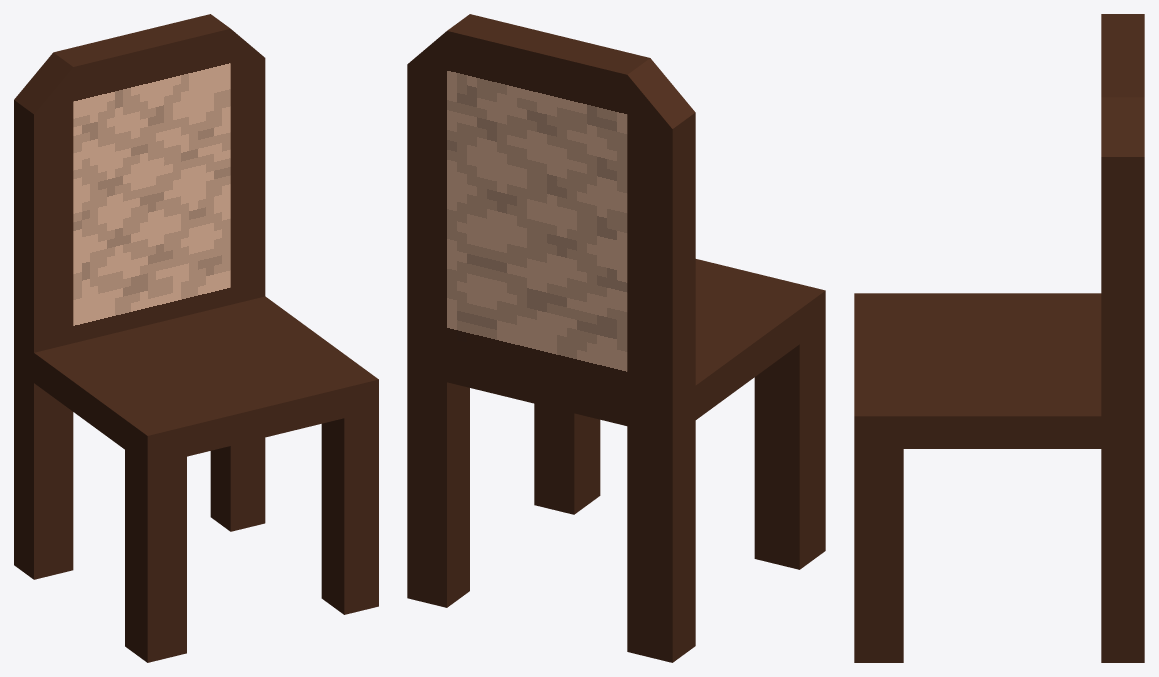
The model's file is Chair.glb.
3 renders of one model, left to right at view 1: azimuth 30°, elevation 25°; view 2: azimuth 150°, elevation 25°; view 3: azimuth 270°, elevation 25°, orthographic. The views are drawn at different scales.
Visible parts, largest first — view 1: chair; view 2: chair; view 3: chair.
Boxes of the visible parts, <box> form: chair: <box>14,14,378,662</box>; chair: <box>407,14,825,662</box>; chair: <box>854,14,1144,662</box>.
Bounding box in the file's own units: 0.8 × 1.66 × 0.8.
1 material, 1 textured.
